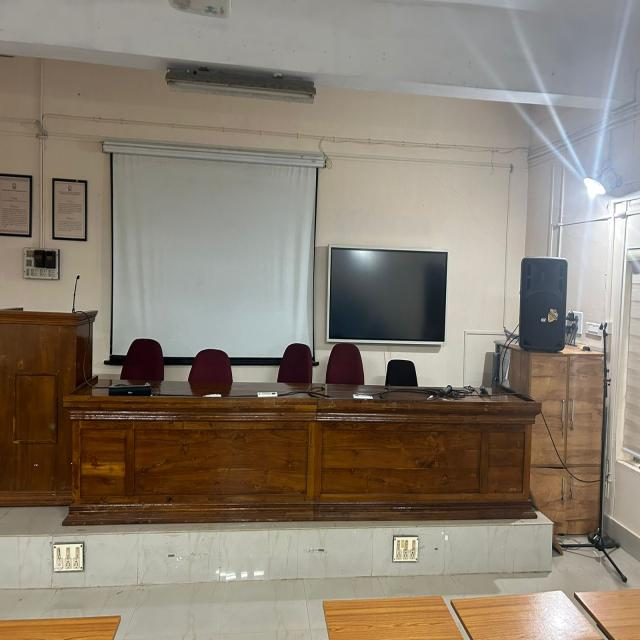Table ahead at: (84, 392, 523, 526), (0, 306, 72, 514)
